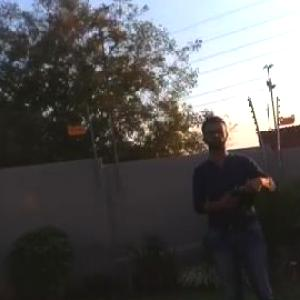follow: (188, 110, 289, 299)
